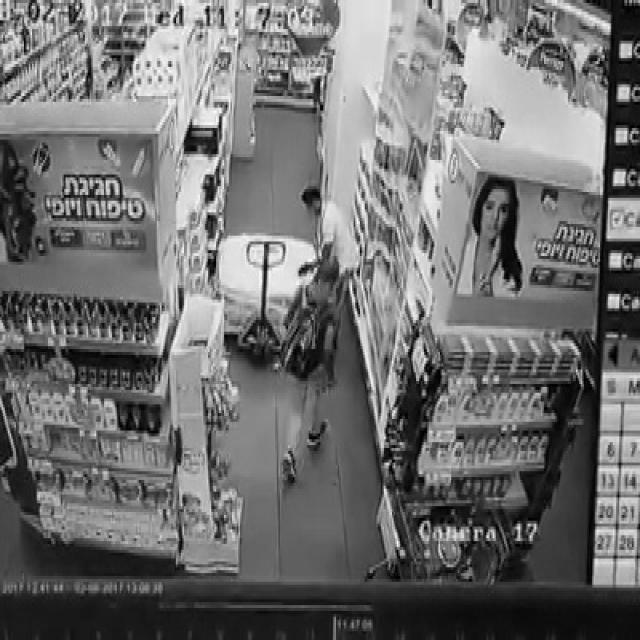weapon: (316, 384, 328, 392), (336, 378, 338, 386)
